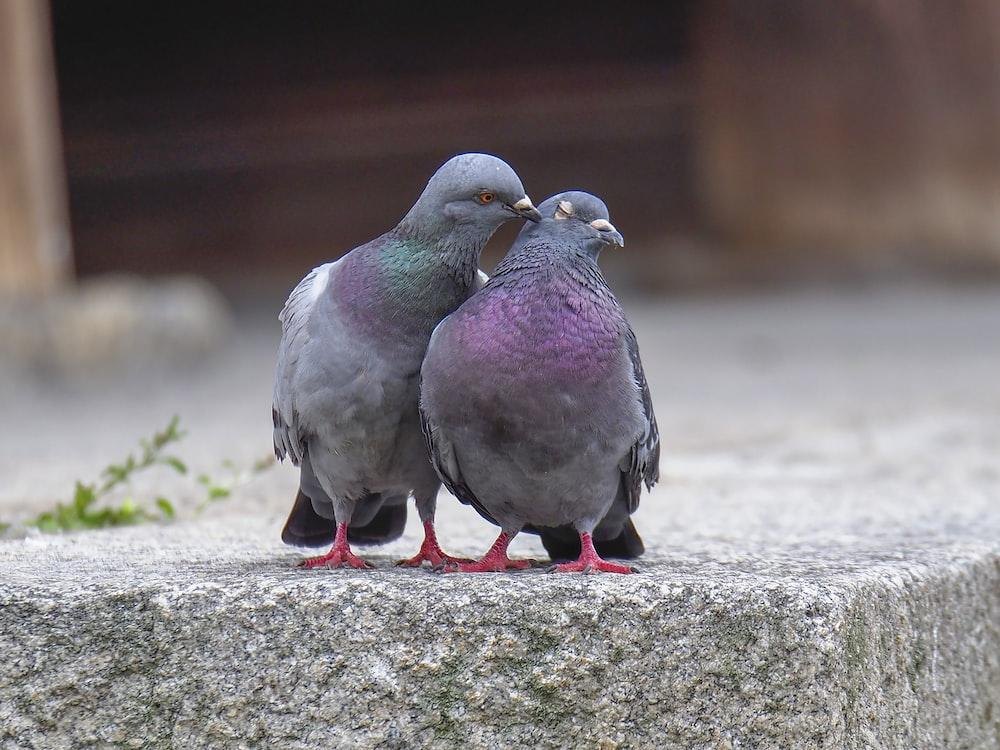Flying Rat: (273, 101, 540, 572), (442, 173, 625, 599)
